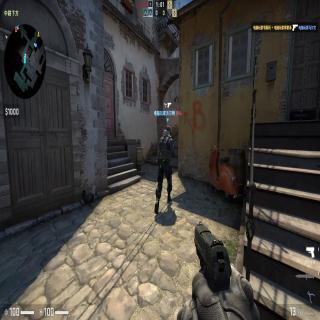CT-Body: (154, 124, 173, 215)
CT-Head: (164, 125, 171, 136)
